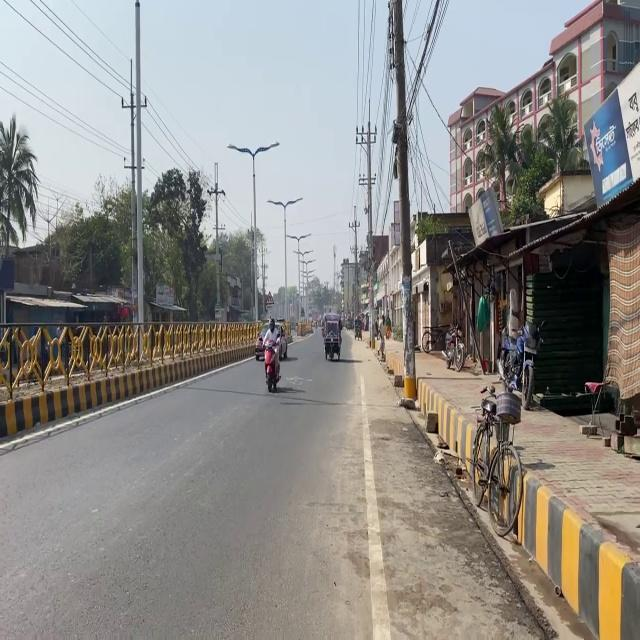Fallen-tree: (259, 336, 284, 392), (443, 324, 465, 371), (322, 321, 341, 361)
Garbage: (579, 380, 608, 436)
Light-pole: (387, 0, 417, 389), (129, 0, 146, 323)
Pole: (0, 319, 270, 437)
Pothole: (370, 331, 638, 640)
